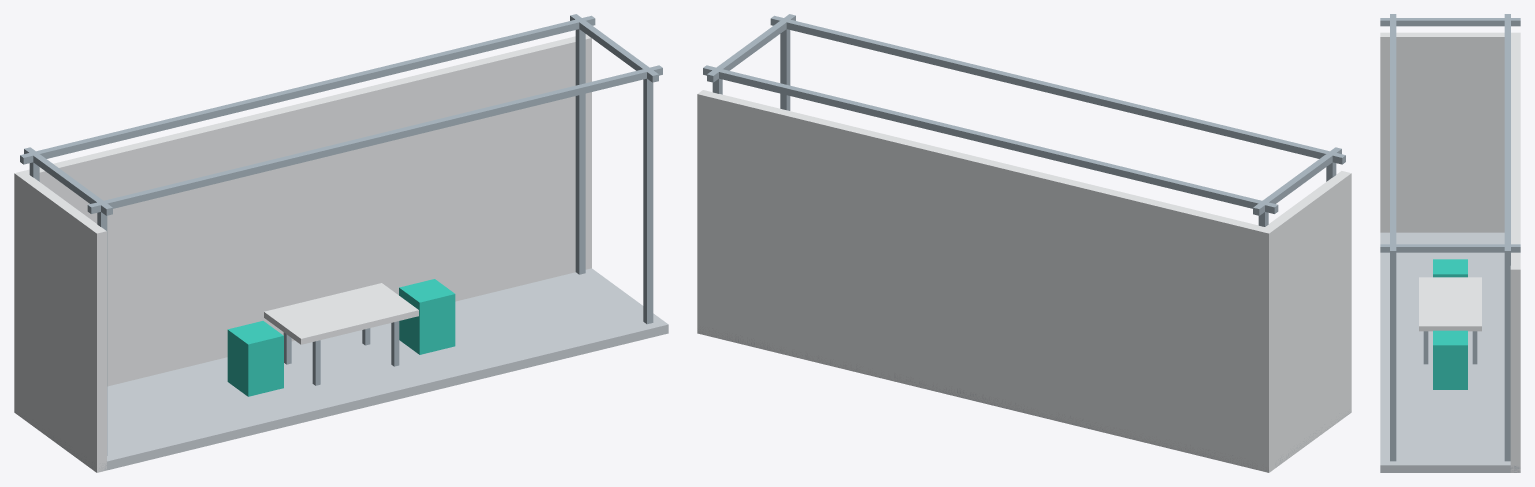
3 renders of one model, left to right at view 1: azimuth 30°, elevation 25°; view 2: azimuth 150°, elevation 25°; view 3: azimuth 270°, elevation 25°, orthographic. The views are drawn at different scales.
Visible parts, largest first — view 1: Exhibition Booth Concept; view 2: Exhibition Booth Concept; view 3: Exhibition Booth Concept.
Boxes of the visible parts, box(x1,y1,x2,y2) form: Exhibition Booth Concept: box(14, 14, 668, 472); Exhibition Booth Concept: box(697, 14, 1351, 472); Exhibition Booth Concept: box(1380, 14, 1520, 472).
Bounding box in the file's own units: 8 × 3.49 × 2.
